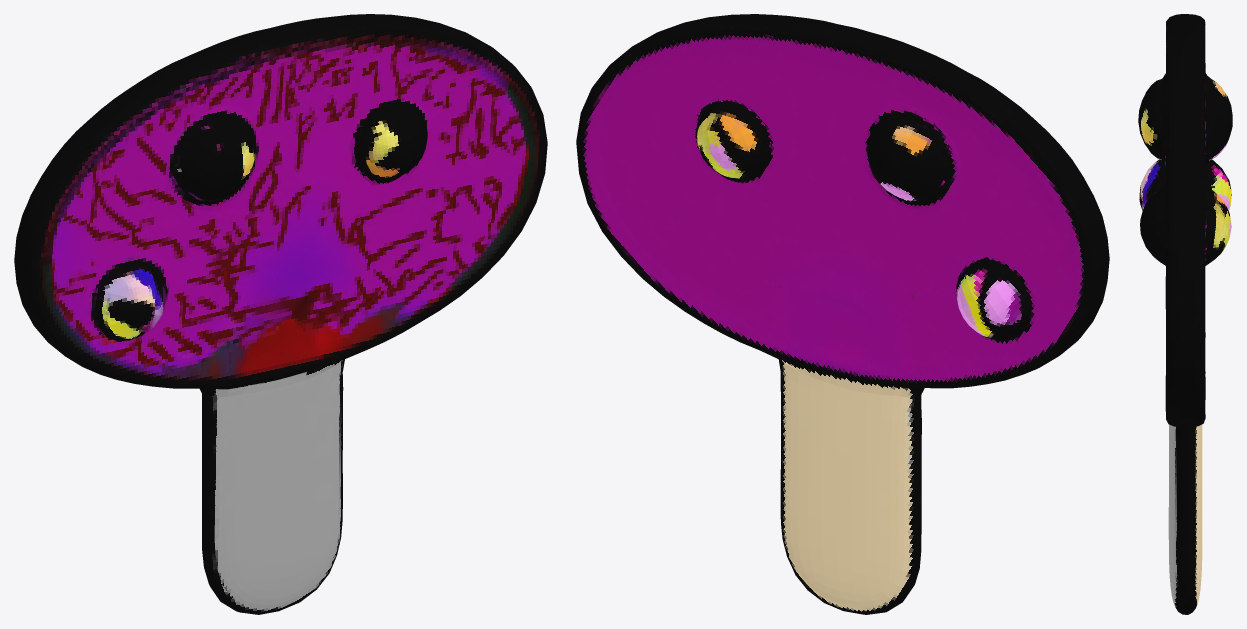
The model's file is Shroom_QuadRetro.glb.
3 views of the same model, side by side, from view 1: azimuth 30°, elevation 25°; view 2: azimuth 150°, elevation 25°; view 3: azimuth 270°, elevation 25° (orthographic). The views are drawn at different scales.
Parts seen in each view (by area): view 1: Shroom_QuadRemesh; view 2: Shroom_QuadRemesh; view 3: Shroom_QuadRemesh.
Part boxes in pixels (<box>): Shroom_QuadRemesh: <box>14,14,547,614</box>; Shroom_QuadRemesh: <box>576,14,1109,614</box>; Shroom_QuadRemesh: <box>1138,14,1232,614</box>.
Bounding box in the file's own units: 1.89 × 2 × 0.3089.
Materials: 1 (1 with a texture image).
